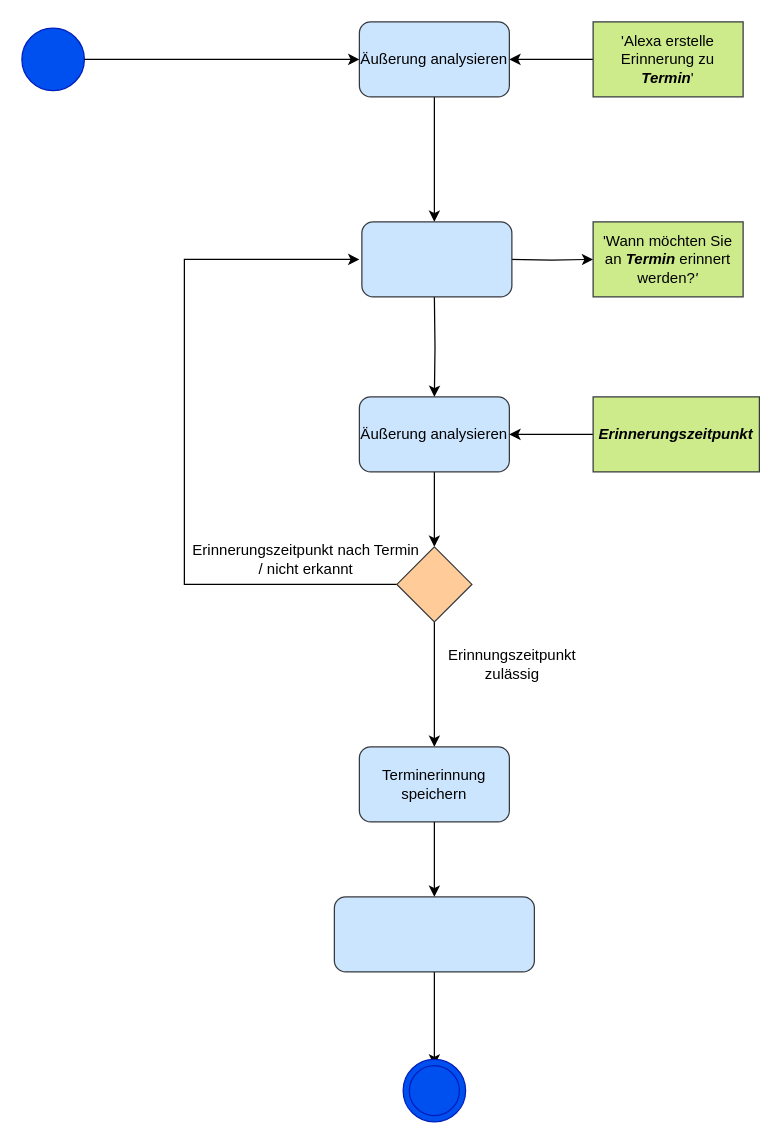
The diagram is 781 pixels wide and 1144 high, and some of its shapes have lost their labels. Here are the shapes that lost their labels. From the top down, the box of each, then its label:
(361, 221, 512, 297): Termin aufrufen
(333, 896, 534, 972): Terminerinnerungszeitpunkt zur Kontrolle ausgeben
